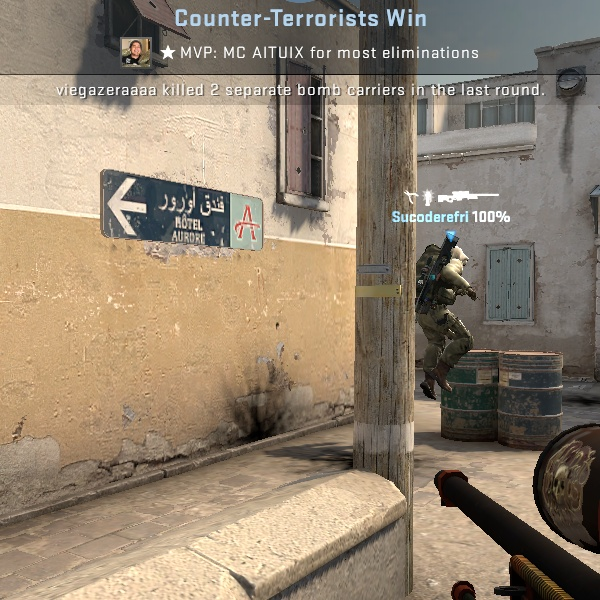ct_body: (415, 215, 490, 417)
ct_head: (439, 236, 475, 278)
